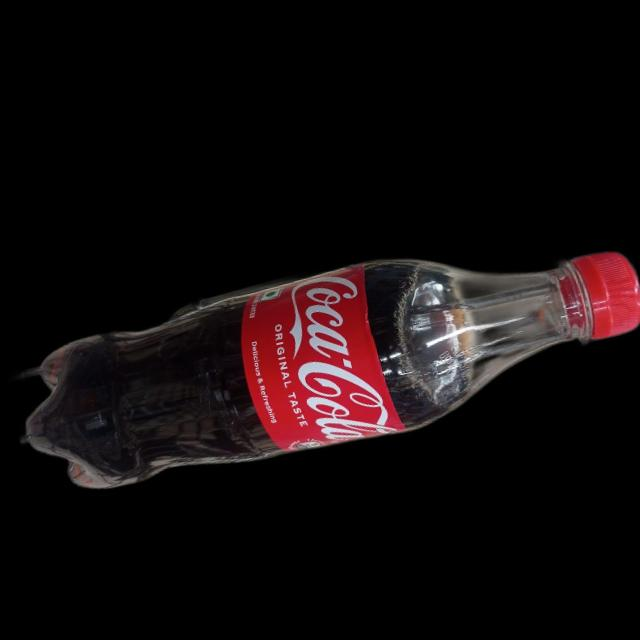Coca-Cola-600 ml-: (7, 200, 640, 512)
